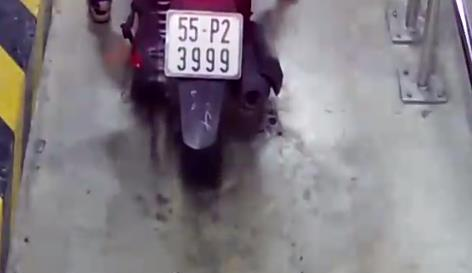lisence: (166, 7, 243, 79)
